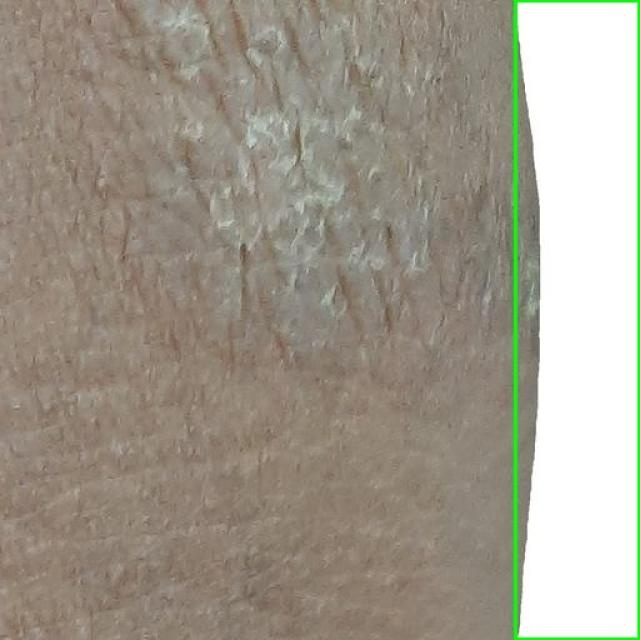Tinea Corporis: (515, 0, 639, 639)
